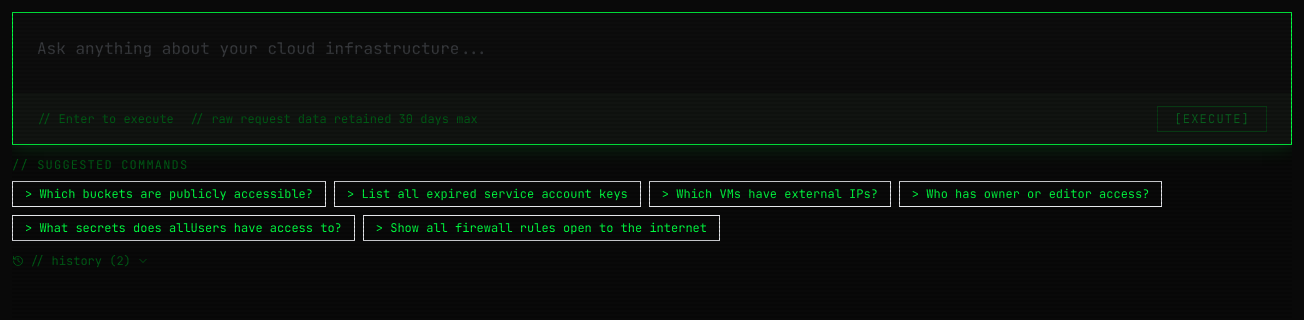
Test case: QueryBox › renders and uses history when available
Note: Click to expand
Click the button "// history (2)" at (80, 261), box x1=12 y1=253 x2=149 y2=269
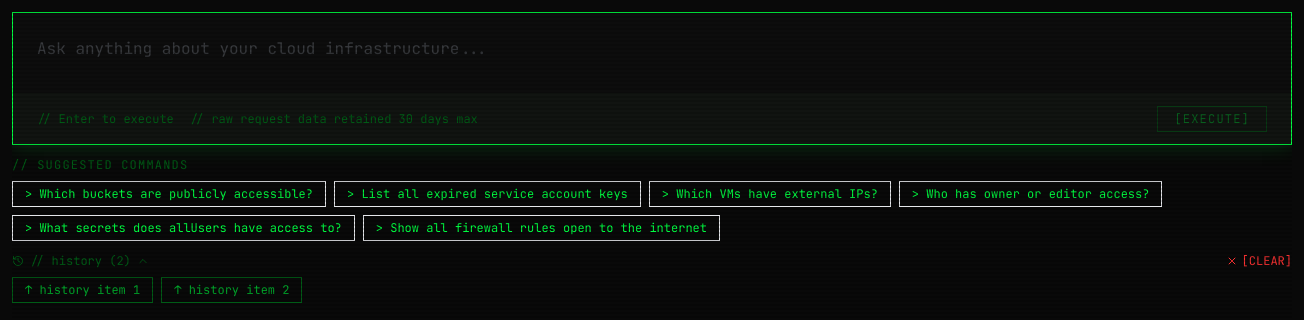
Expected: the button "↑ history item 1" is shown
Expected: the button "↑ history item 2" is shown, x1=161 y1=277 x2=302 y2=303
Note: Click a history item should populate the input
Click the button "↑ history item 1" at (83, 290), box x1=12 y1=277 x2=153 y2=303
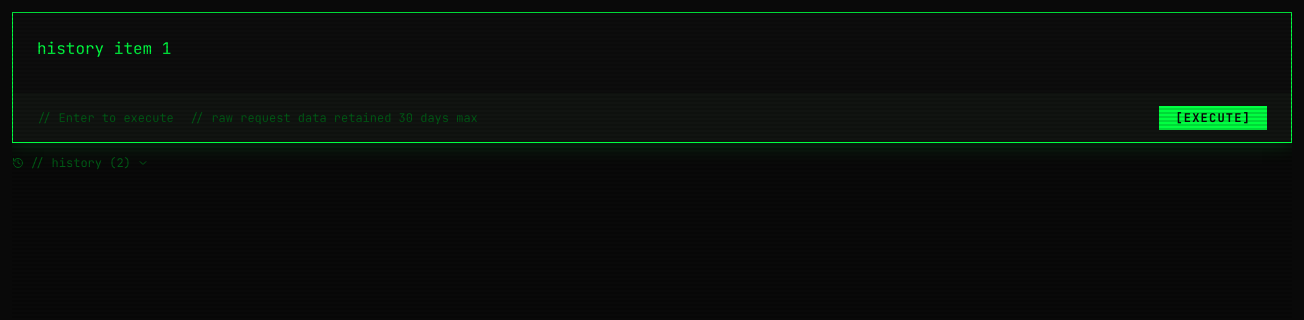
Expected: the text box with placeholder "Ask anything about your cloud infrastructure..." holds "history item 1", x1=13 y1=13 x2=1291 y2=93
